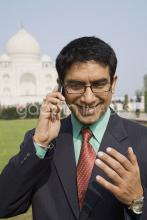phone: (45, 79, 65, 114)
talk: (41, 71, 111, 129)
